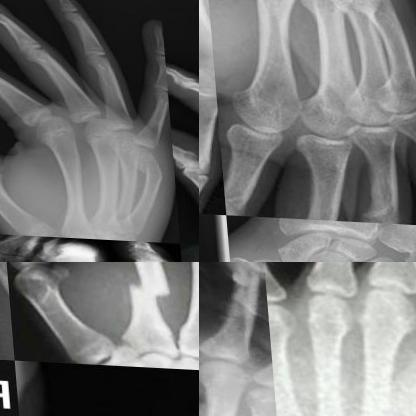fracture: (118, 262, 179, 318), (40, 234, 102, 261), (131, 150, 167, 185)
